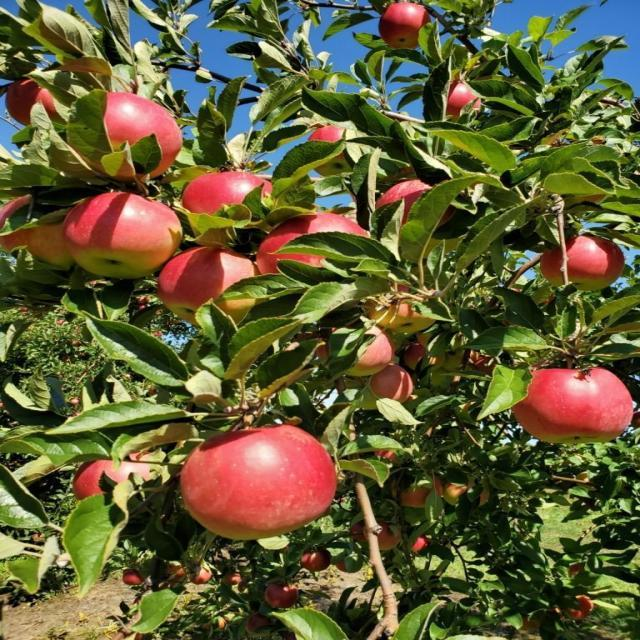Red Apple: (185, 426, 337, 536), (70, 195, 182, 273), (524, 367, 638, 440), (92, 93, 185, 171), (262, 217, 369, 275), (167, 247, 258, 315), (1, 196, 80, 264), (191, 171, 271, 227), (552, 237, 626, 287), (82, 461, 157, 506), (373, 284, 434, 334), (8, 77, 71, 125), (387, 181, 446, 220), (309, 129, 368, 166), (382, 3, 433, 45), (346, 331, 396, 370), (366, 367, 414, 400), (447, 84, 484, 114), (409, 344, 446, 372), (309, 325, 336, 353), (268, 585, 298, 606), (374, 529, 403, 550), (444, 486, 474, 504), (304, 552, 331, 570), (571, 599, 596, 618), (350, 522, 370, 544), (250, 616, 274, 634), (379, 447, 400, 466), (409, 488, 430, 505), (172, 567, 190, 583), (197, 569, 213, 583), (124, 573, 142, 585), (338, 558, 353, 572), (416, 538, 427, 550), (225, 576, 239, 585), (572, 563, 583, 573)
